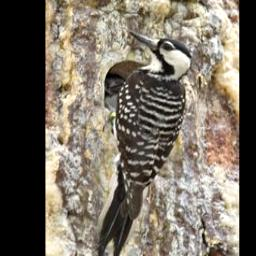Woodpecker: (94, 30, 193, 256)
